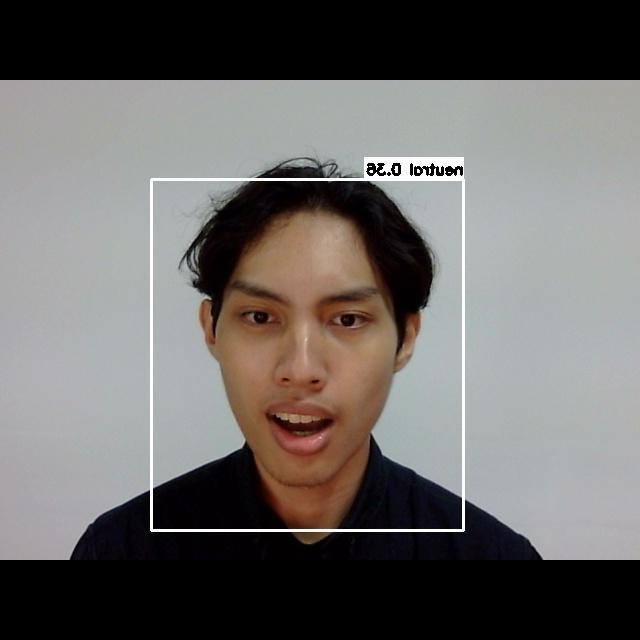Surprised: (209, 251, 401, 477)
